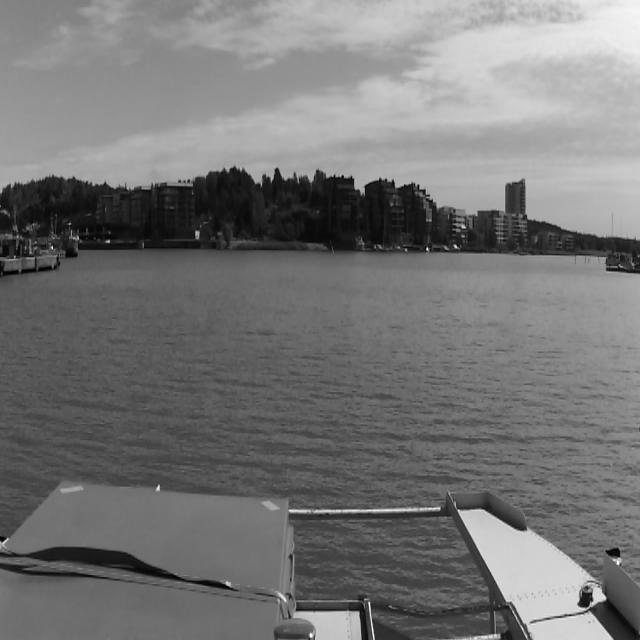ship: (61, 221, 80, 258)
